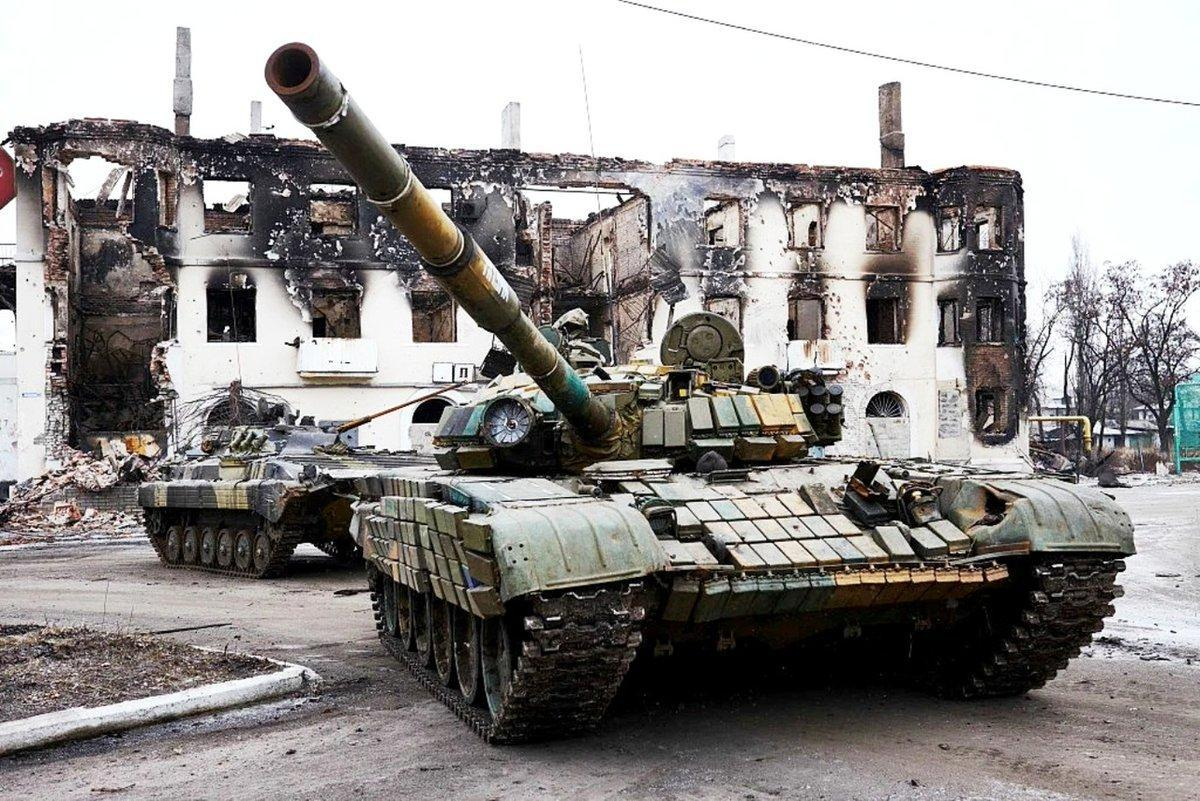tank: (263, 38, 1140, 751), (135, 374, 473, 580)
